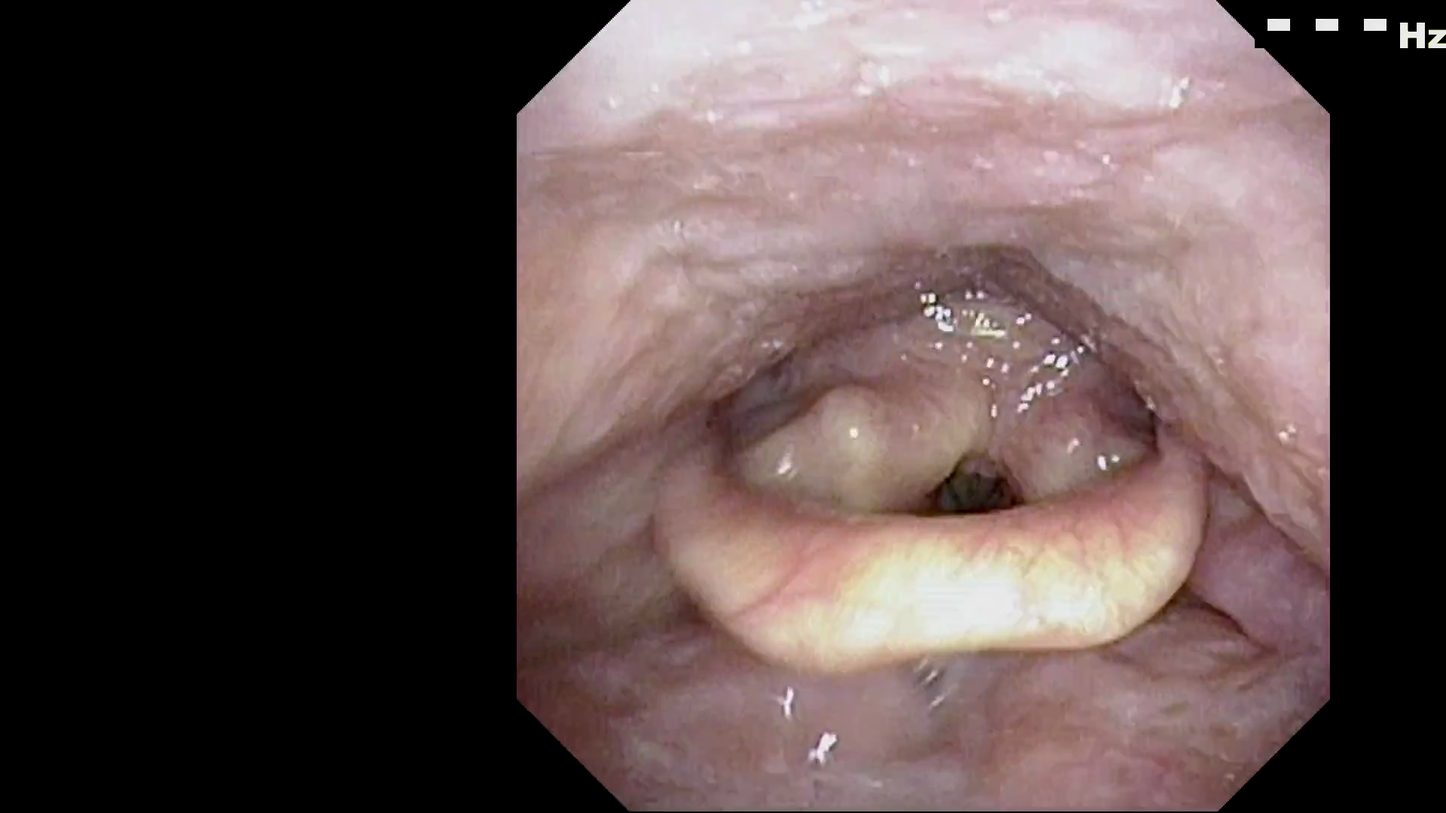epiglottis: (669, 432, 1218, 672)
trachea: (931, 452, 1010, 536)
